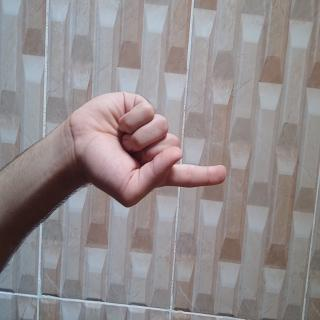BAA: (64, 120, 159, 320)
